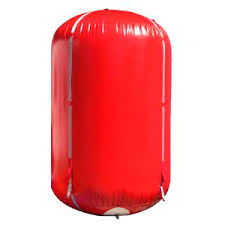buoy: (51, 10, 171, 217)
